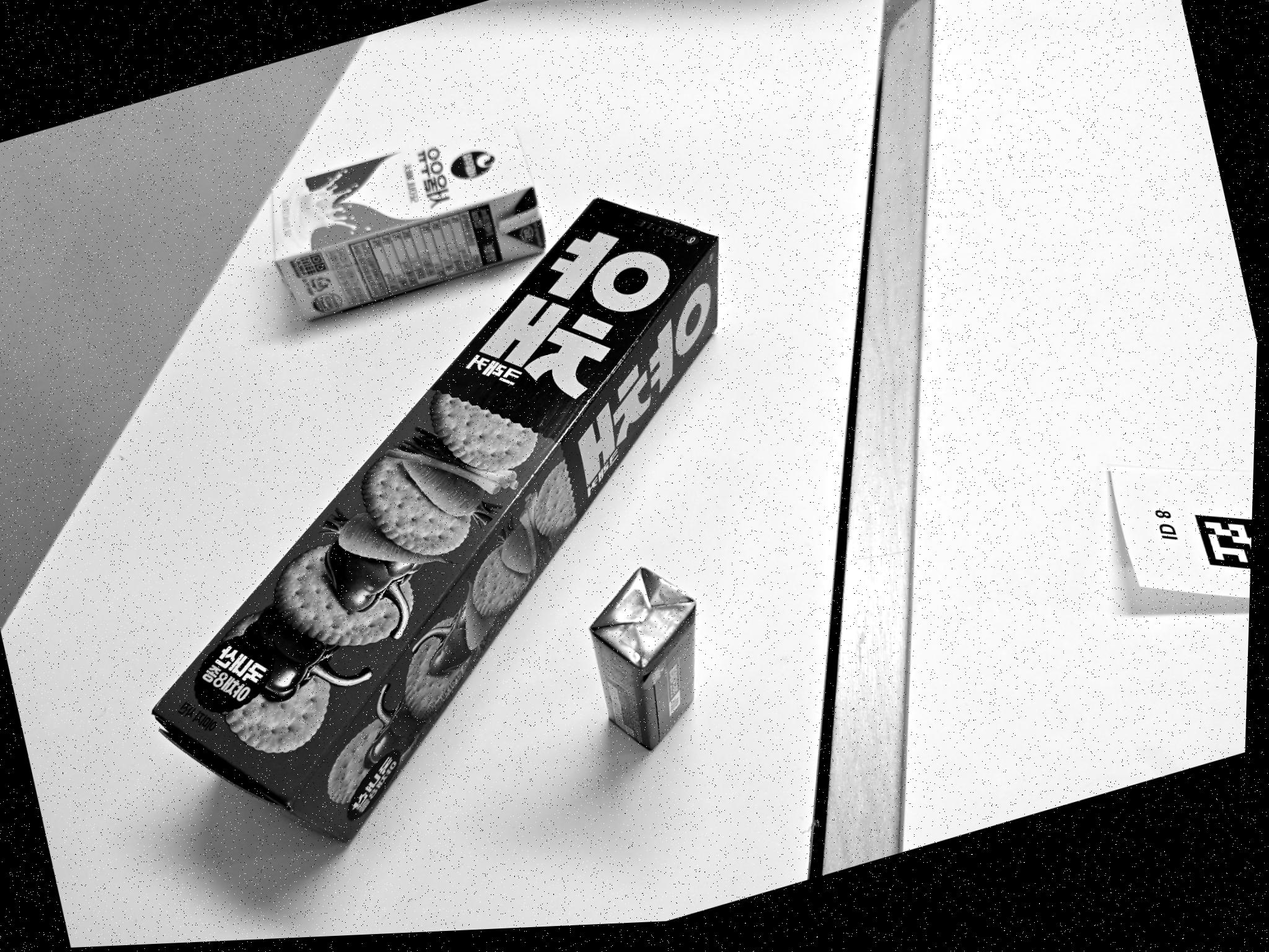cracker_vege: (154, 198, 718, 839)
gum_green: (591, 567, 696, 748)
milk_green: (273, 125, 546, 319)
